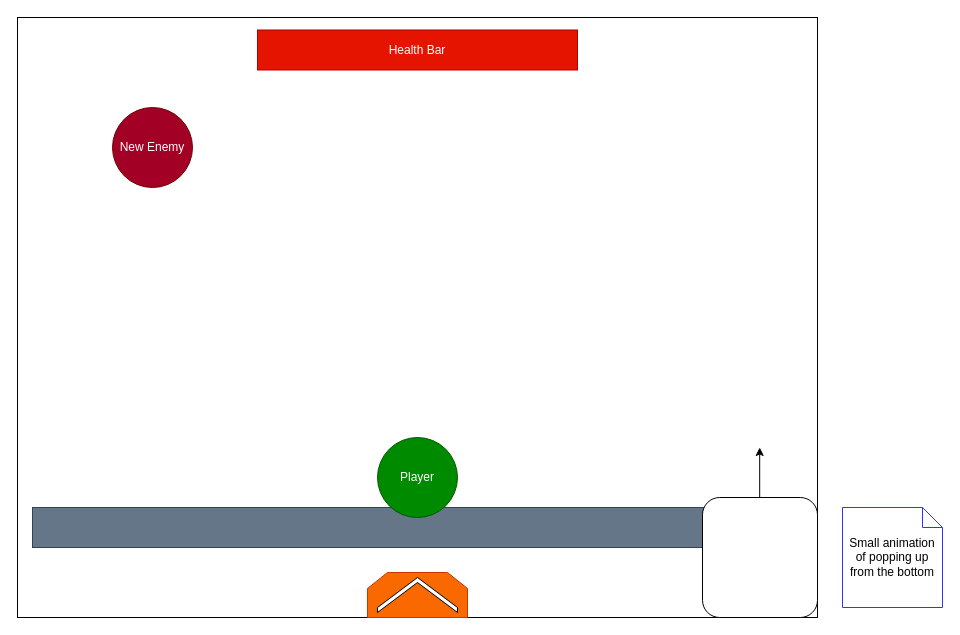
Some shapes in this 960 by 635 pixel diagram are drawn without their labels. The shapes that lost their labels are listed below. From the top down, each one's centre as x and y in pixels, then its label:
point (417, 527): Castle
point (760, 557): ! Alert: New enemy recorded in the Villagerpedia
